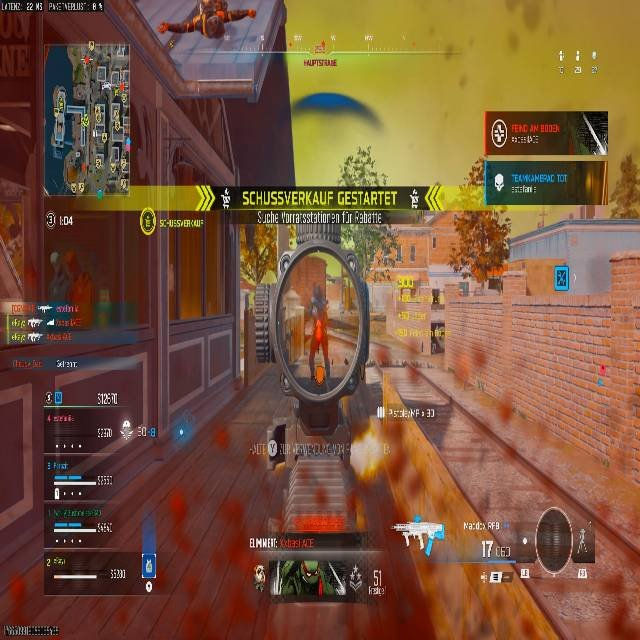player: (430, 316, 445, 358)
